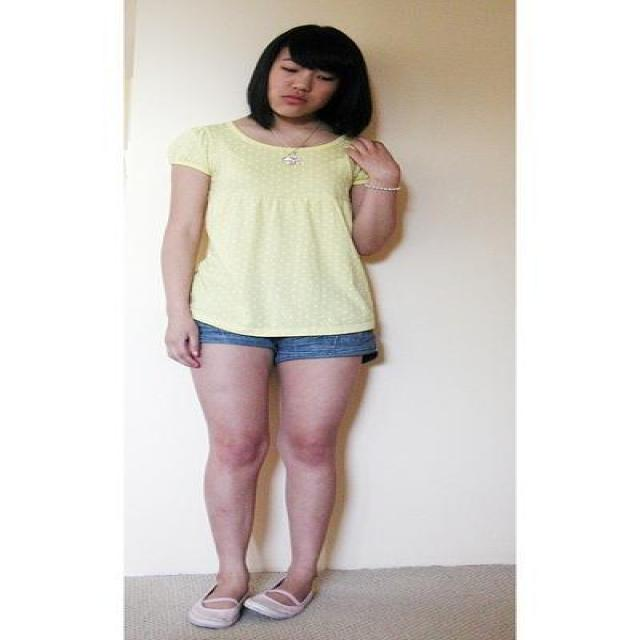shirt: (162, 123, 386, 344)
shoe: (190, 581, 318, 626)
shorts: (184, 320, 382, 370)
